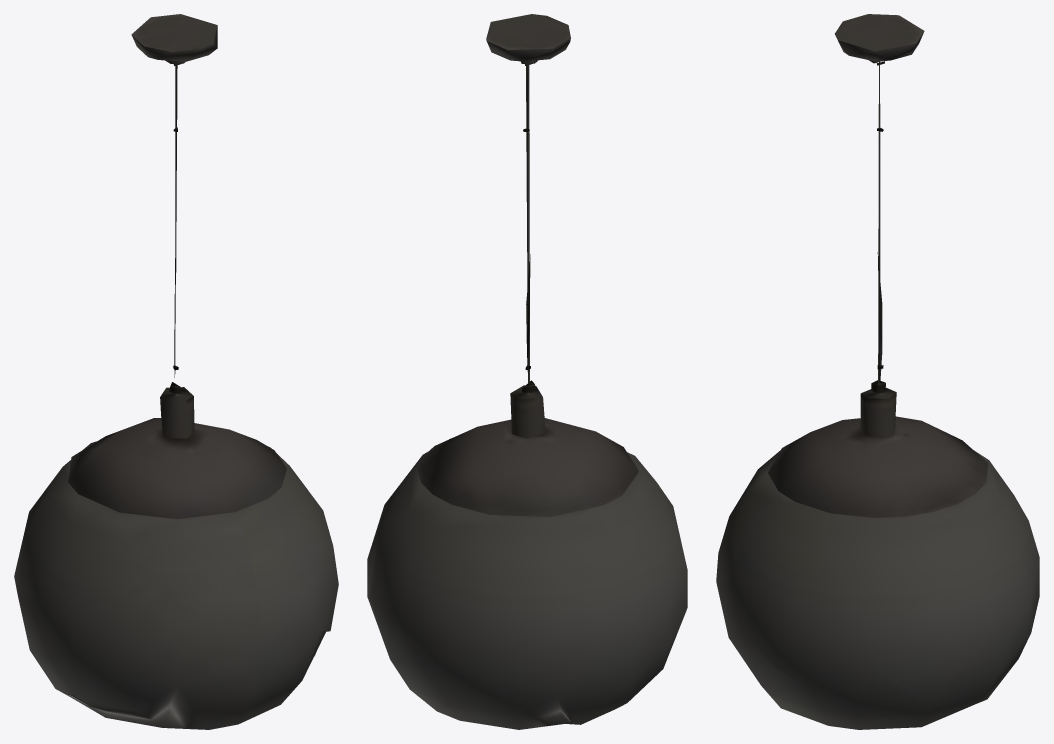
Rendered from pendant.glb.
3 renders of one model, left to right at view 1: azimuth 30°, elevation 25°; view 2: azimuth 150°, elevation 25°; view 3: azimuth 270°, elevation 25°, orthographic.
Visible parts, largest first — view 1: pendant; view 2: pendant; view 3: pendant.
Part boxes in pixels (box(x1,y1,x2,y2)): pendant: box(14, 14, 338, 729); pendant: box(367, 14, 687, 729); pendant: box(716, 14, 1039, 729).
Bounding box in the file's own units: 0.4306 × 0.9512 × 0.4298.
Materials: 1 (1 with a texture image).
